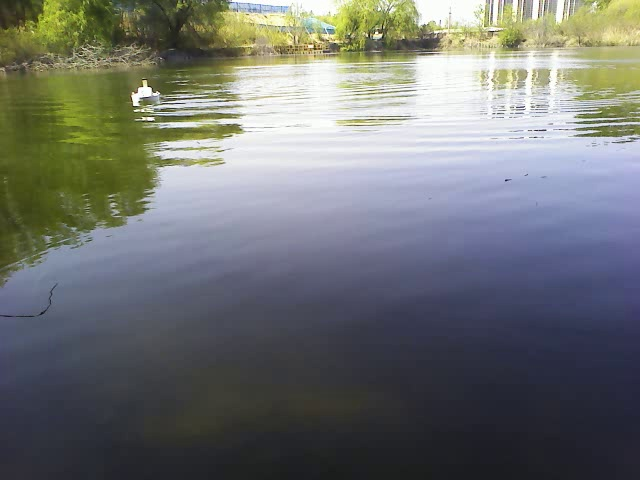boat: (129, 75, 164, 111)
